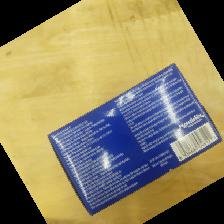Oreo: (46, 62, 224, 216)
